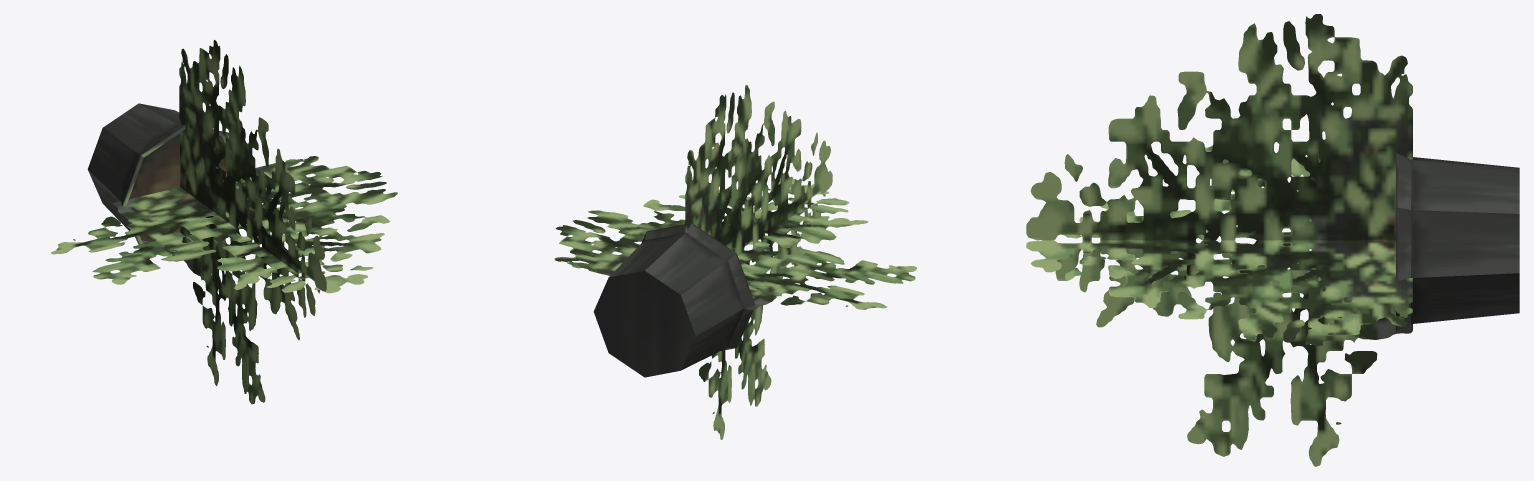
The model's file is pz_native_ficus_12.obj.
The picture shows the model from 3 angles, left to right: view 1: azimuth 30°, elevation 25°; view 2: azimuth 150°, elevation 25°; view 3: azimuth 270°, elevation 25°; orthographic projection. The views are drawn at different scales.
Parts seen in each view (by area): view 1: foliage_crossed_cards, pot_shell, soil; view 2: foliage_crossed_cards, pot_shell, pot_bottom; view 3: foliage_crossed_cards, pot_shell.
Boxes of the visible parts, x1,y1,x2,y2 form: foliage_crossed_cards: (51, 40, 397, 404); pot_shell: (87, 103, 232, 255); soil: (129, 133, 227, 241); foliage_crossed_cards: (554, 85, 916, 439); pot_shell: (609, 223, 755, 370); pot_bottom: (593, 270, 695, 377); foliage_crossed_cards: (1026, 14, 1412, 466); pot_shell: (1396, 153, 1519, 331).
Size of the model in its own units: 1.22 by 1.22 by 1.2.
Materials: 1 (1 with a texture image).
